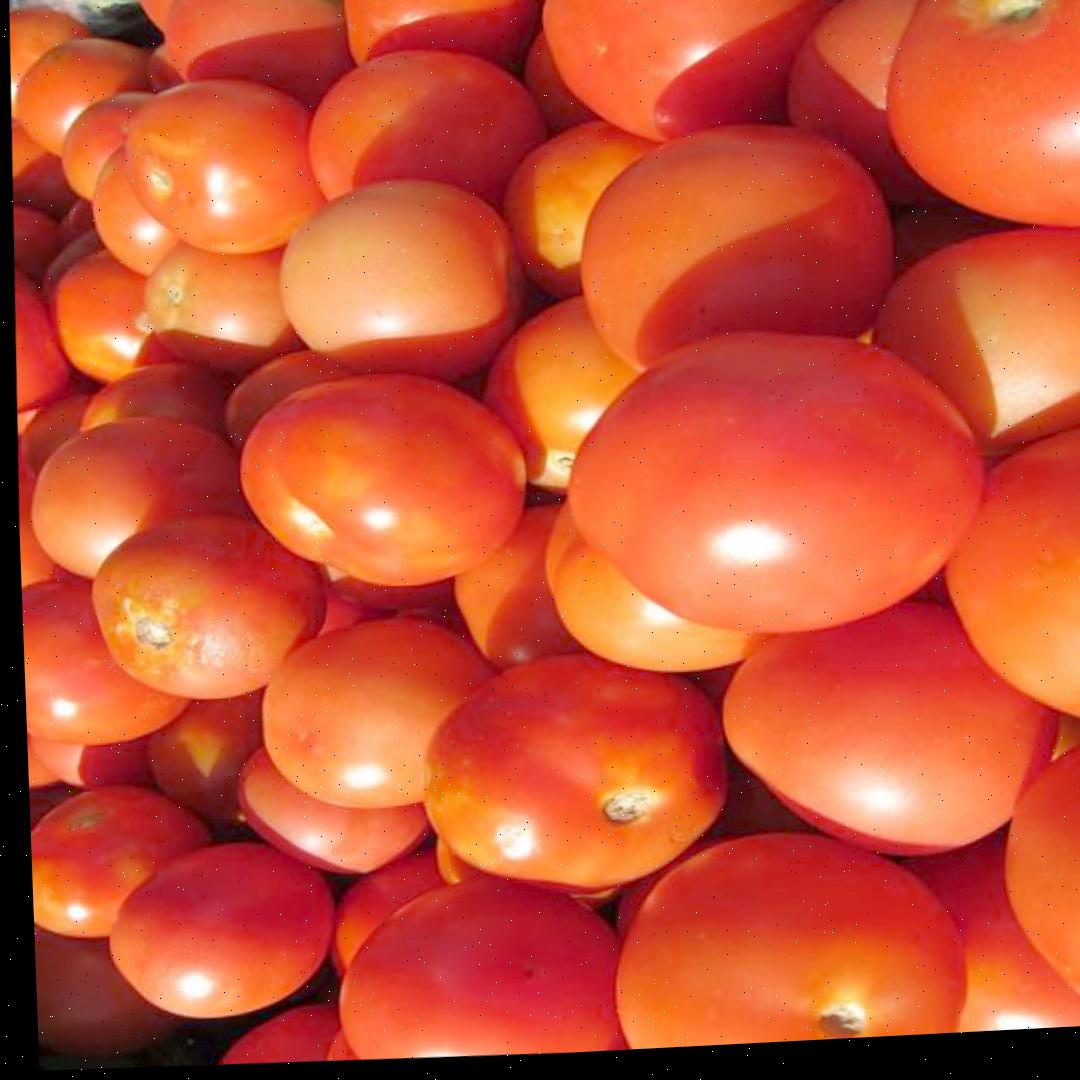matang: (559, 317, 998, 649), (414, 645, 733, 907), (608, 822, 974, 1050), (229, 363, 530, 597), (329, 869, 631, 1065), (89, 507, 333, 707), (103, 835, 341, 1027), (119, 73, 338, 265)
